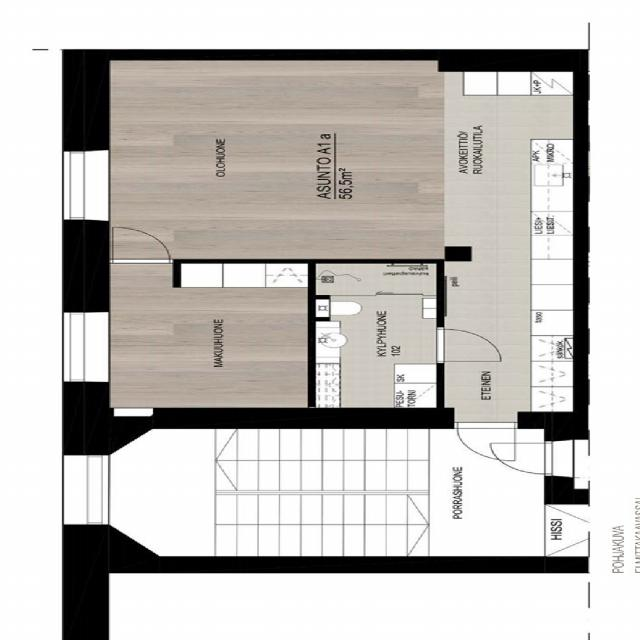door: (457, 411, 516, 462), (113, 227, 170, 264), (436, 329, 501, 361)
